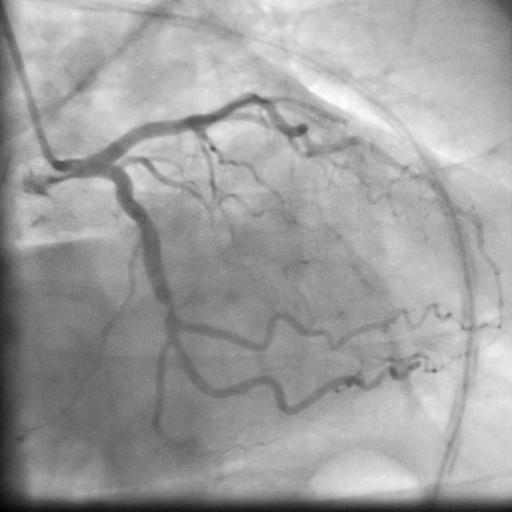Stenosis: (154, 298, 180, 315)
